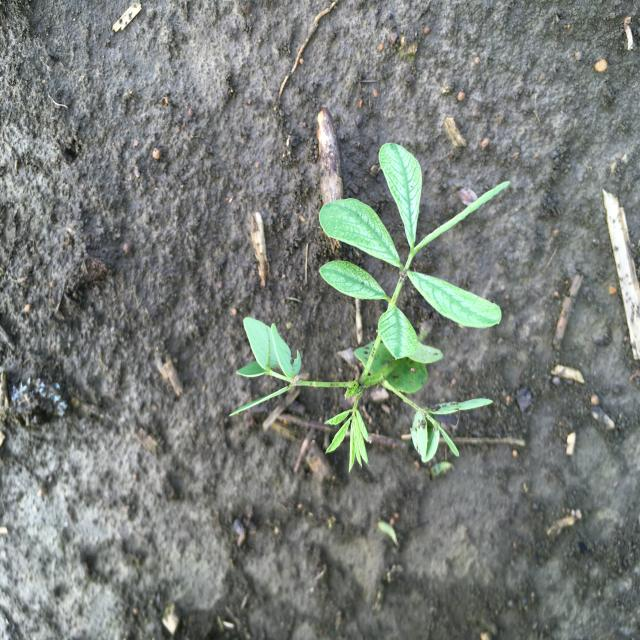Sicklepod: (228, 140, 512, 476)
